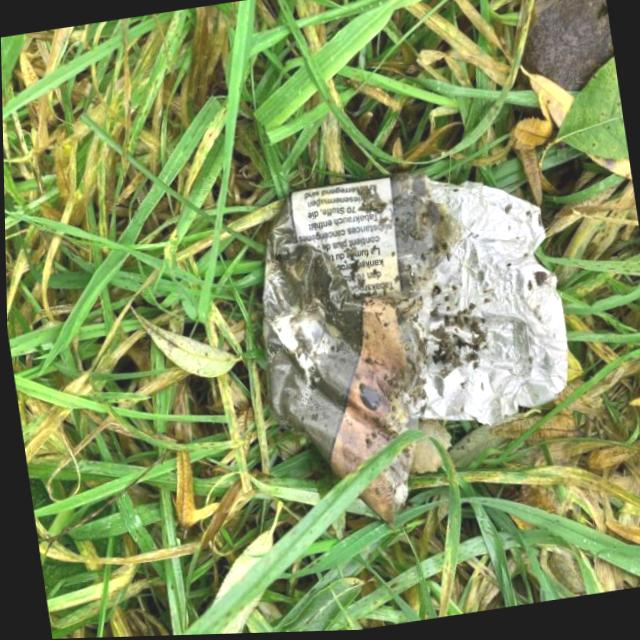Paper: (229, 143, 592, 553)
